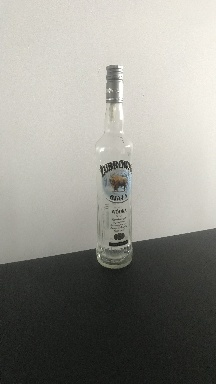butelka: (93, 62, 134, 271)
